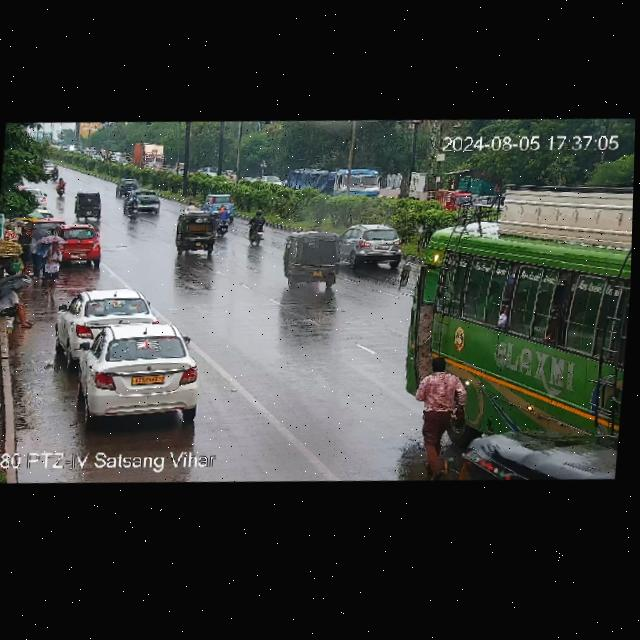bus: (394, 169, 634, 492)
car: (74, 317, 206, 426), (56, 283, 153, 358), (335, 221, 405, 272), (285, 230, 345, 286), (176, 212, 220, 256), (59, 227, 101, 266), (123, 186, 162, 216), (434, 184, 466, 215), (73, 190, 106, 220), (205, 193, 236, 218), (115, 176, 138, 196)
motorcycle: (245, 211, 268, 246), (214, 207, 233, 236), (126, 193, 141, 222), (55, 176, 67, 197), (184, 198, 199, 213), (51, 166, 58, 183)
person: (413, 356, 469, 467), (0, 279, 39, 333), (44, 242, 62, 297), (32, 232, 45, 278), (18, 228, 31, 270)
truck: (290, 164, 389, 205), (132, 139, 165, 173)
